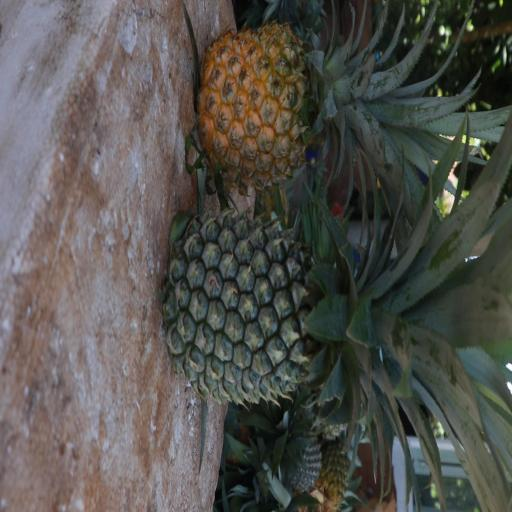Pineapple - v8 v1: (197, 26, 458, 180)
